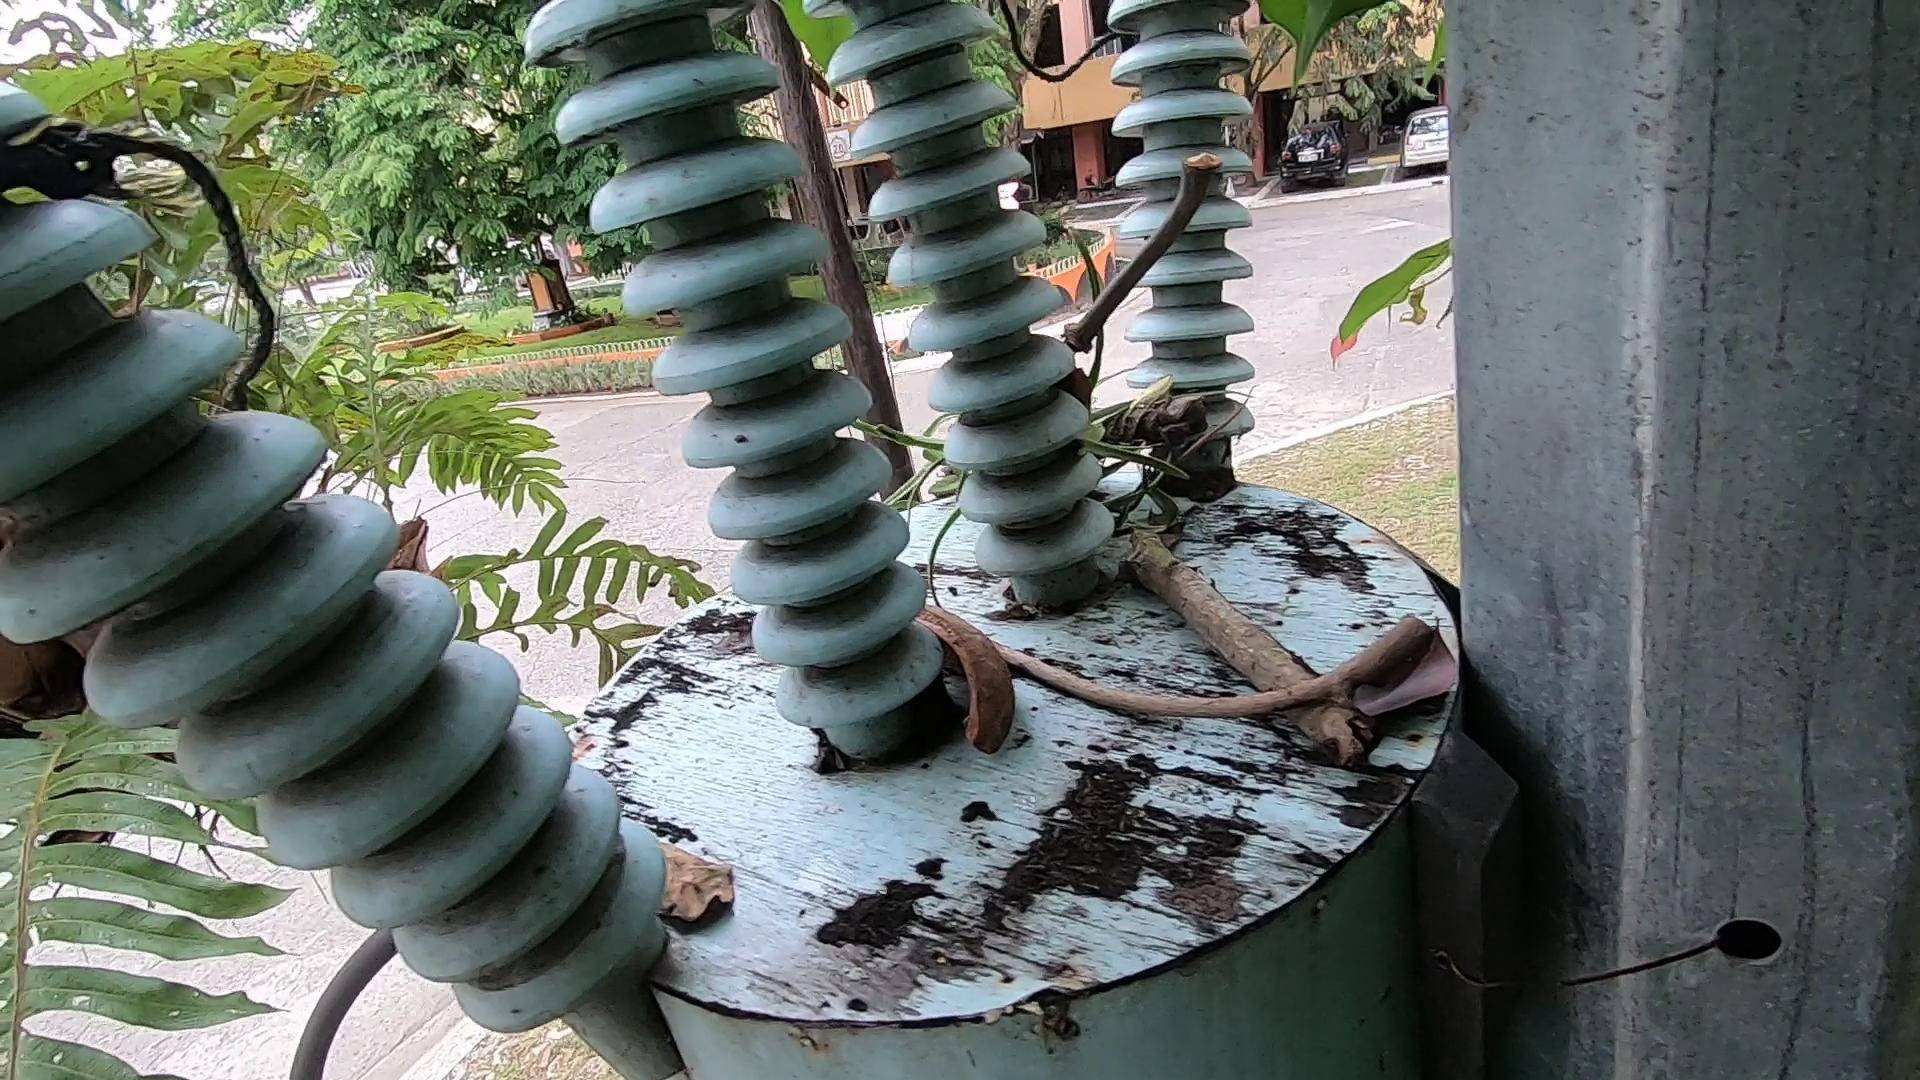branch with leaves: (1029, 378, 1455, 760)
leaf: (1354, 571, 1518, 757), (629, 815, 781, 959)
mahogany fruit: (895, 609, 1044, 819)
tree branch: (975, 609, 1472, 773), (1048, 142, 1270, 394)
